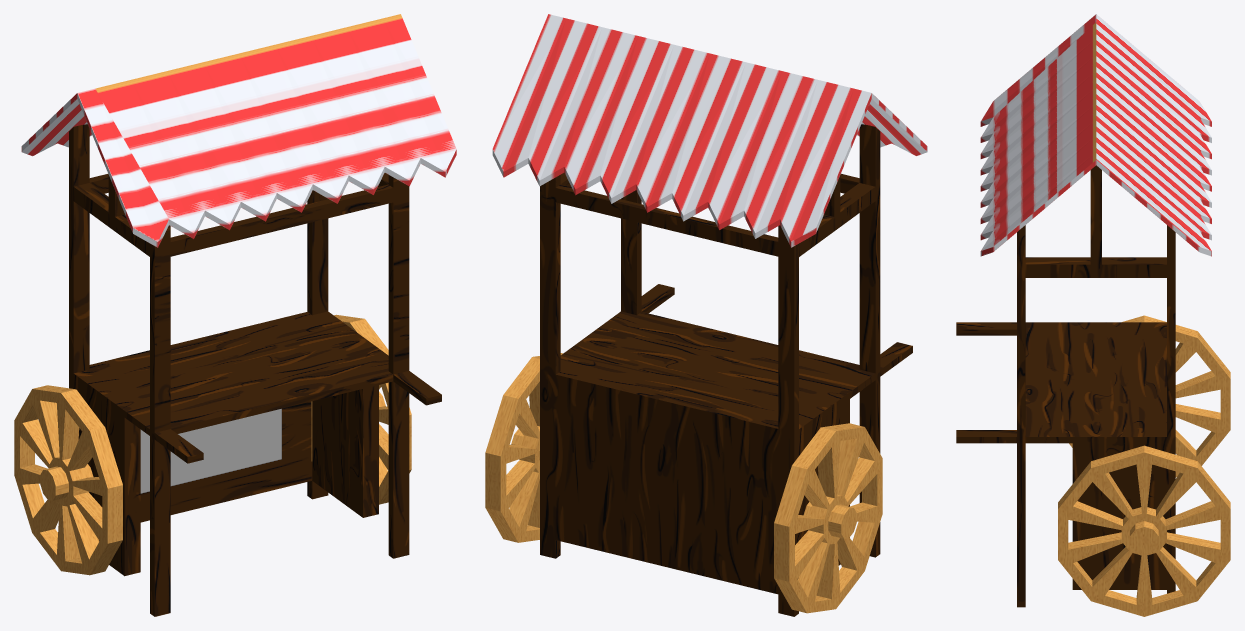
The model's file is ARC0710004.fbx.
3 renders of one model, left to right at view 1: azimuth 30°, elevation 25°; view 2: azimuth 150°, elevation 25°; view 3: azimuth 270°, elevation 25°, orthographic. The views are drawn at different scales.
Visible parts, largest first — view 1: smARC0710004; view 2: smARC0710004; view 3: smARC0710004.
Part boxes in pixels (box(x1,y1,x2,y2)): smARC0710004: box(14, 14, 456, 616); smARC0710004: box(485, 14, 927, 616); smARC0710004: box(956, 14, 1230, 616).
Size of the model in its own units: 173 by 251 by 135.
Materials: 1 (1 with a texture image).
